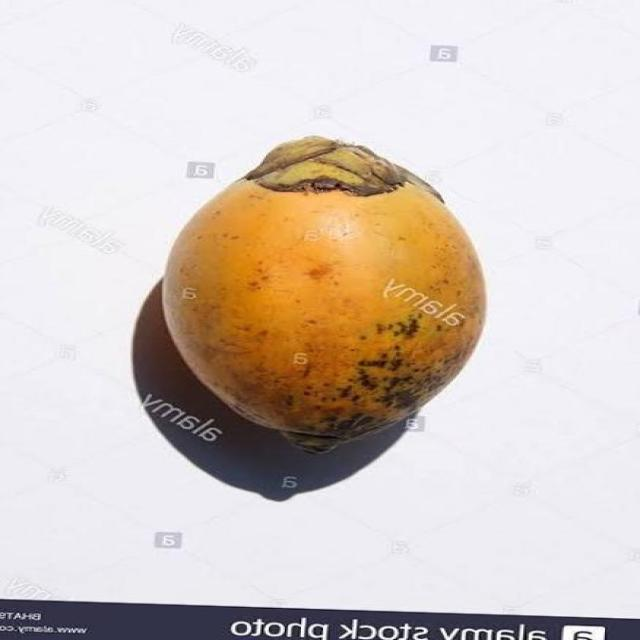good: (159, 138, 488, 455)
